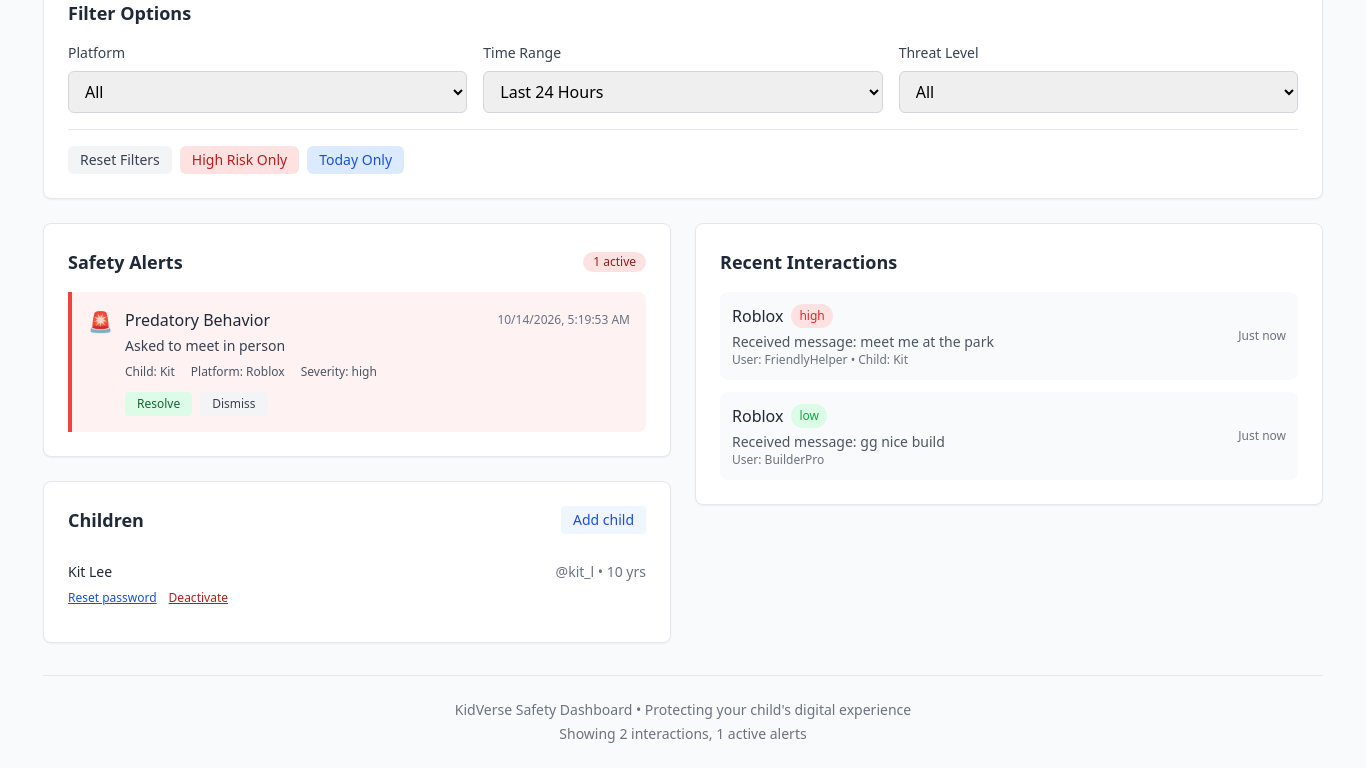
Dashboard children › creates a child, reloads the list and closes the form
(page scrolled)
Step 1. Click the button "Add child" → (604, 520), box [561,506,646,534]
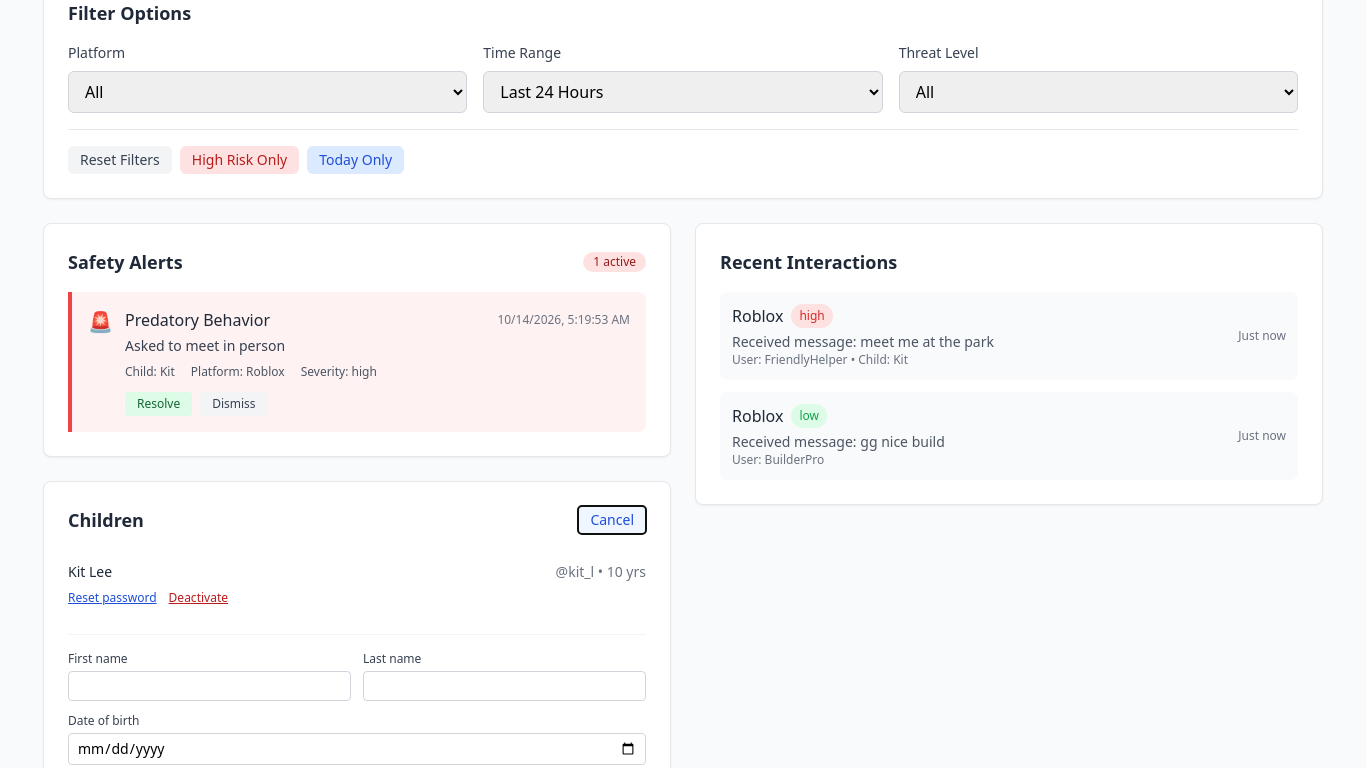
Step 2. Type "Sam" into the field labelled "First name" → (210, 686), box [68,671,351,701]
Step 3. Type "Lee" into the field labelled "Last name" → (504, 686), box [363,671,646,701]
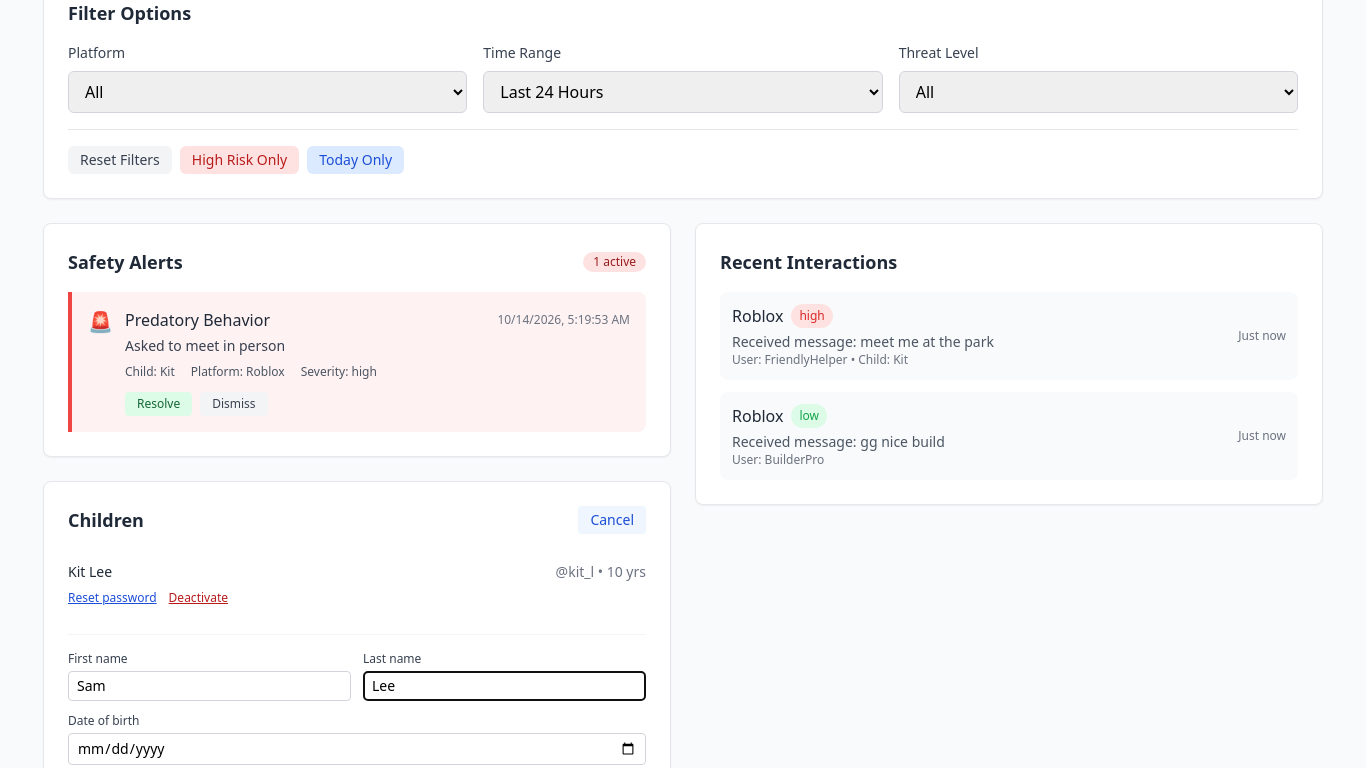
Step 4. Type "2015-03-04" into the date field labelled "Date of birth" → (357, 749), box [68,733,646,765]
(page scrolled)
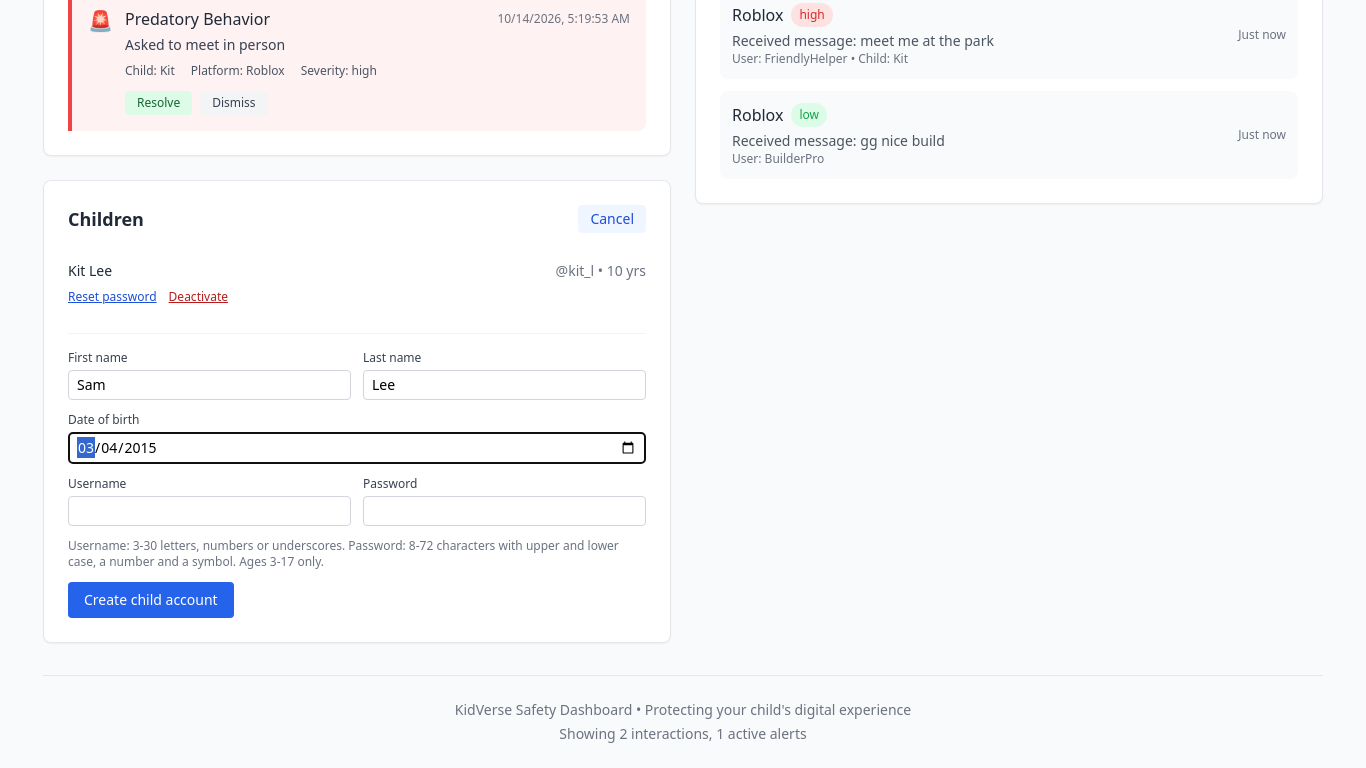
Step 5. Type "sam_l" into the field labelled "Username" → (210, 511), box [68,496,351,526]
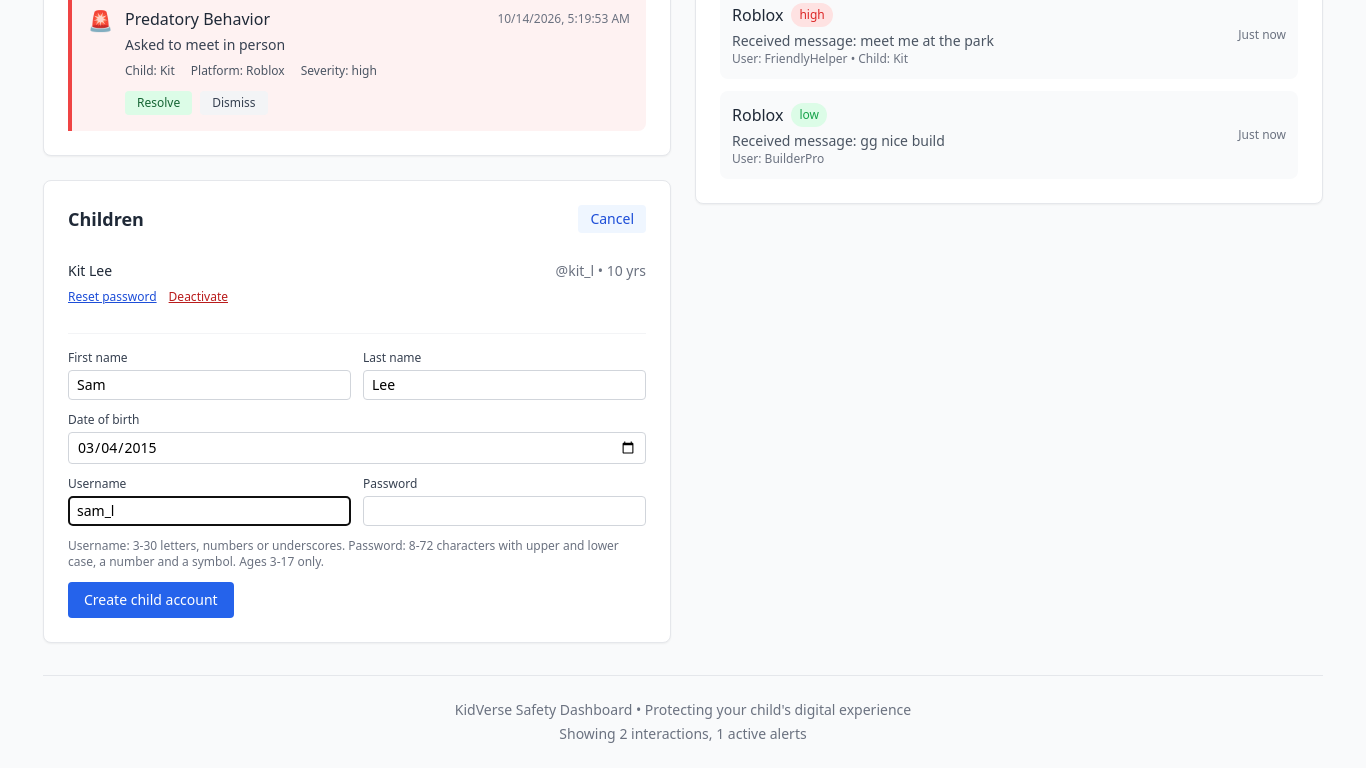
Step 6. Type "Kid5!Password" into the password field labelled "Password" → (504, 511), box [363,496,646,526]
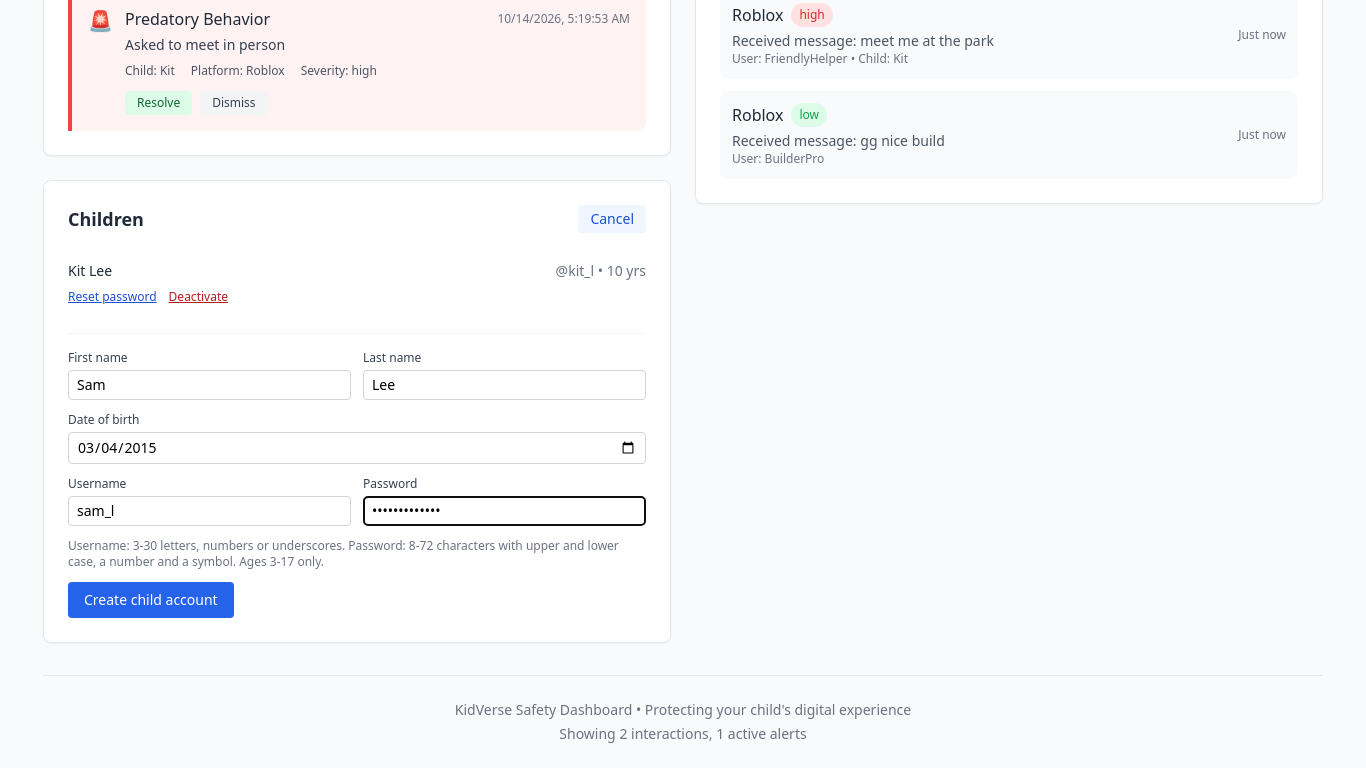
Step 7. Click the button "Create child account" → (151, 600), box [68,582,234,618]
(page scrolled)
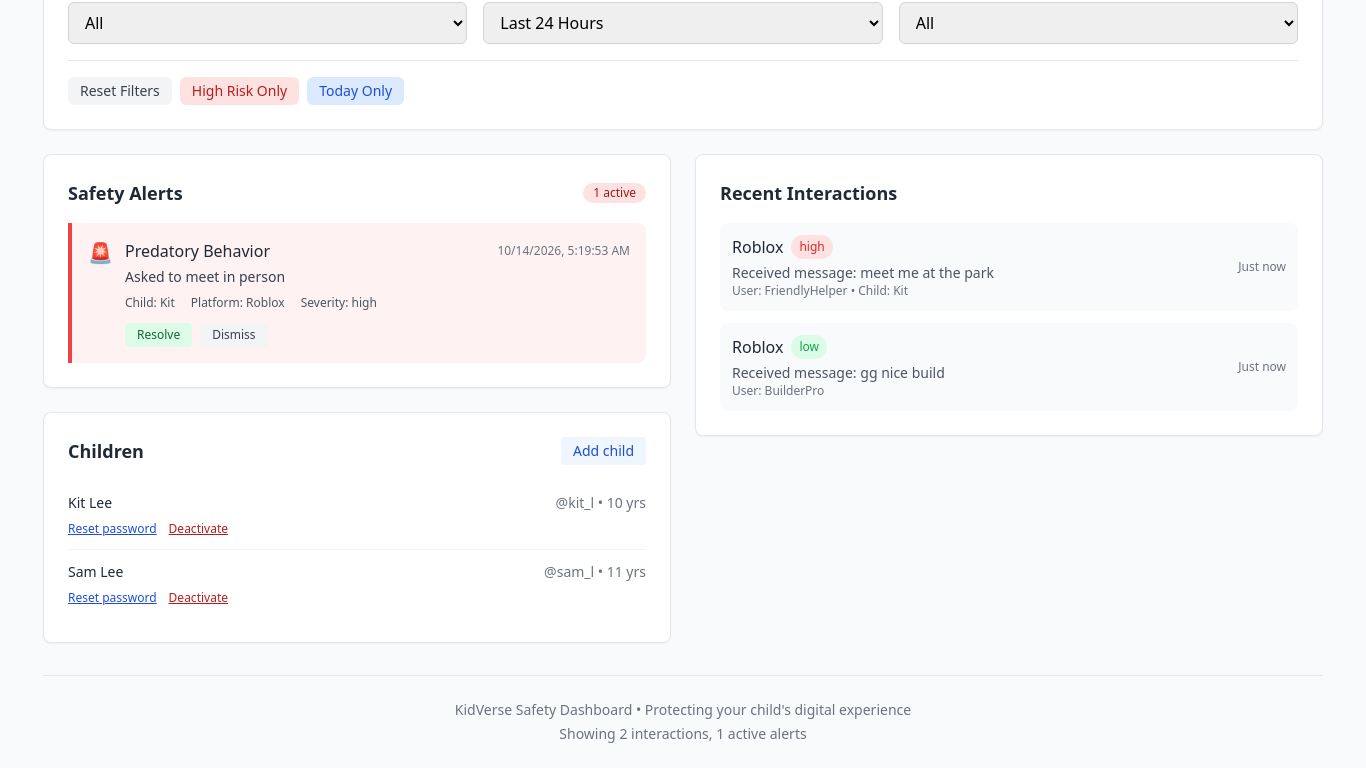
Expected: the text "Sam Lee" is shown, [68,562,123,582]
Expected: the button "Create child account" is gone
